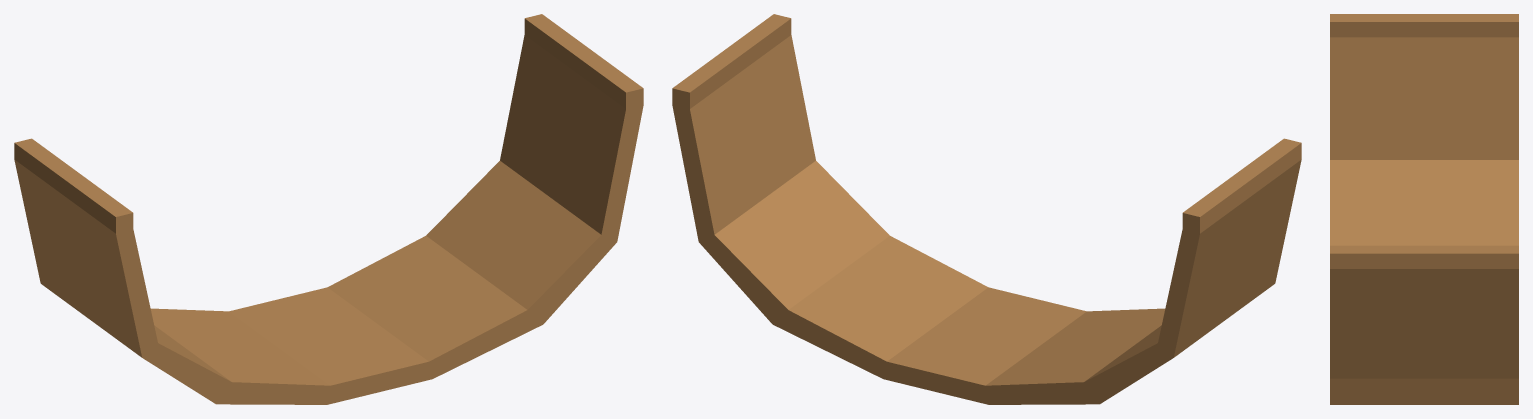
Rendered from BOTTOM_CENTRE.glb.
3 views of the same model, side by side, from view 1: azimuth 30°, elevation 25°; view 2: azimuth 150°, elevation 25°; view 3: azimuth 270°, elevation 25° (orthographic). The views are drawn at different scales.
Bounding box in the file's own units: 6 × 2.6 × 2.
